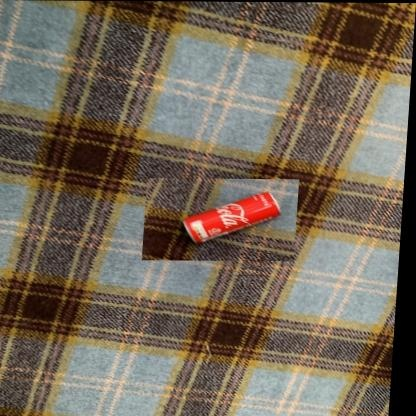trash: (183, 192, 279, 243)
